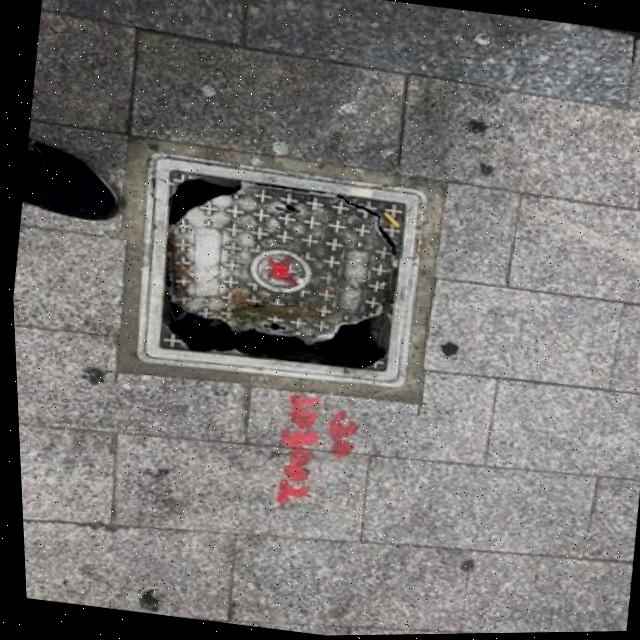manhole: (89, 137, 461, 415)
